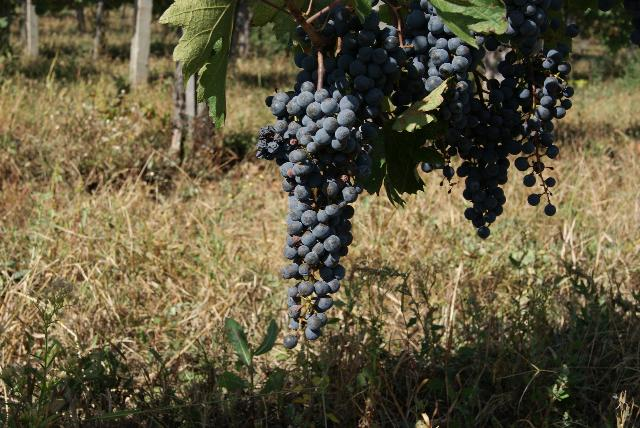grapes: (256, 80, 371, 349), (514, 38, 574, 216), (449, 86, 518, 239), (338, 10, 400, 140)
